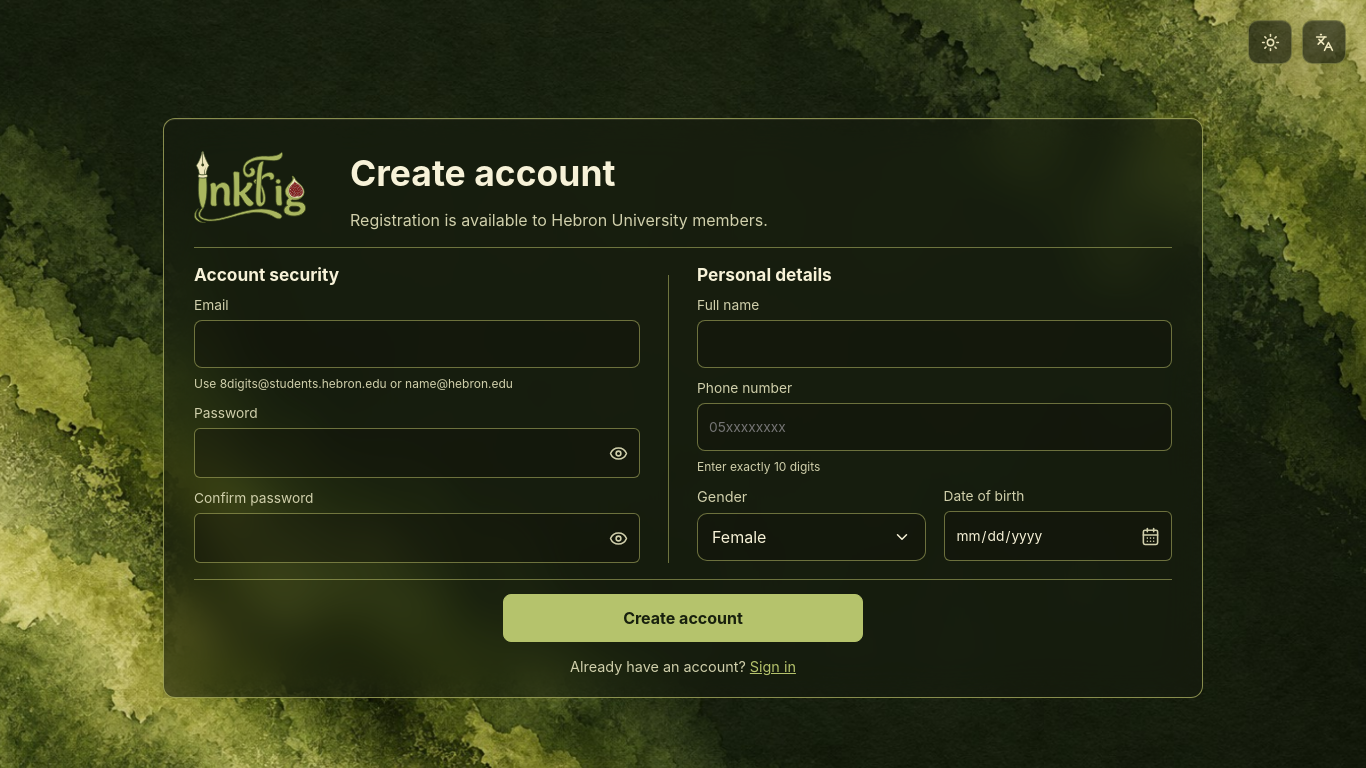
Scenario: preserves signup validation before sending a request: The passwords do not match.
Type "12345678@students.hebron.edu" into the field labelled "Email Use 8digits@students.hebron.edu or name@hebron.edu" at (417, 344), box [194,320,640,368]
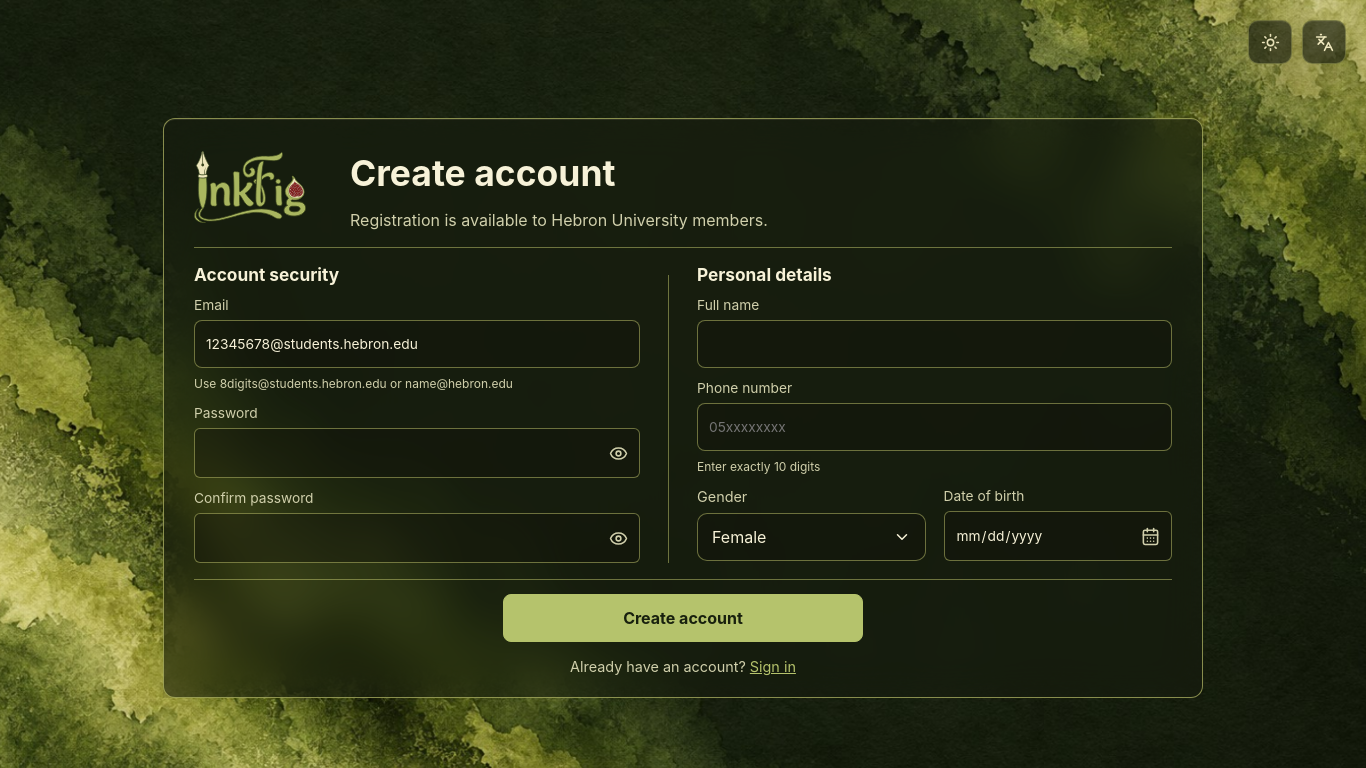
Type "0591234567" into the field labelled "Phone number Enter exactly 10 digits" at (934, 427), box [697,403,1172,451]
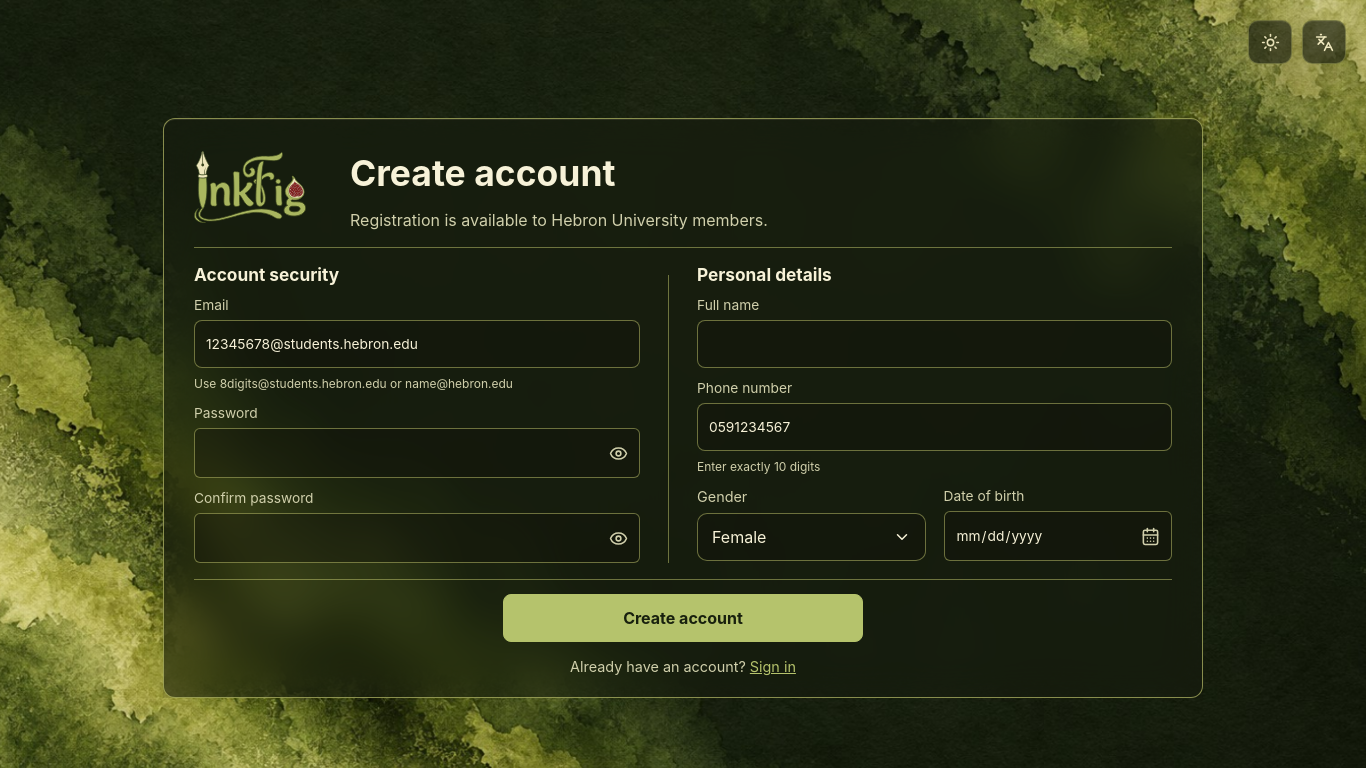
Type "SecurePass123" into the password field labelled "Password" at (396, 453), box [195,429,597,477]
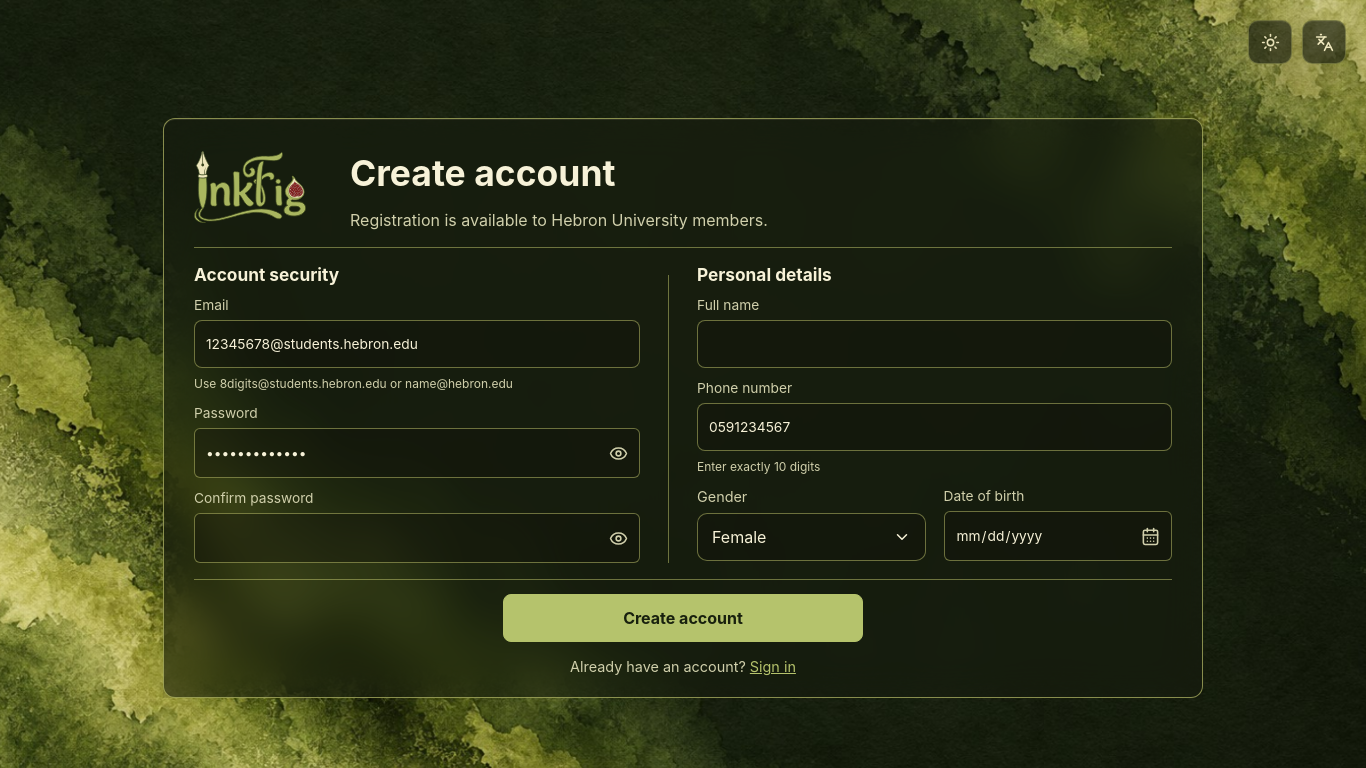
Type "DifferentPass123" into the password field labelled "Confirm password" at (396, 538), box [195,514,597,562]
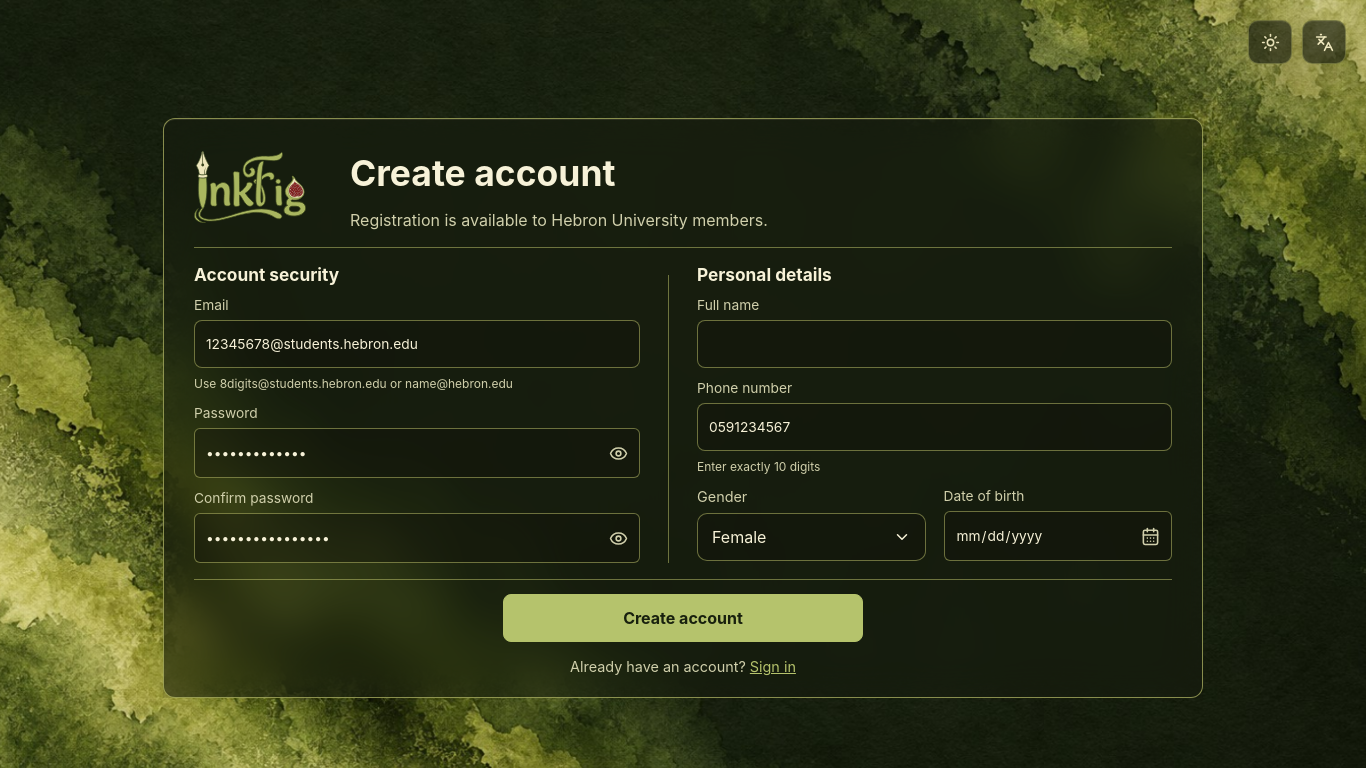
Submit the form, box [194,264,1172,642]
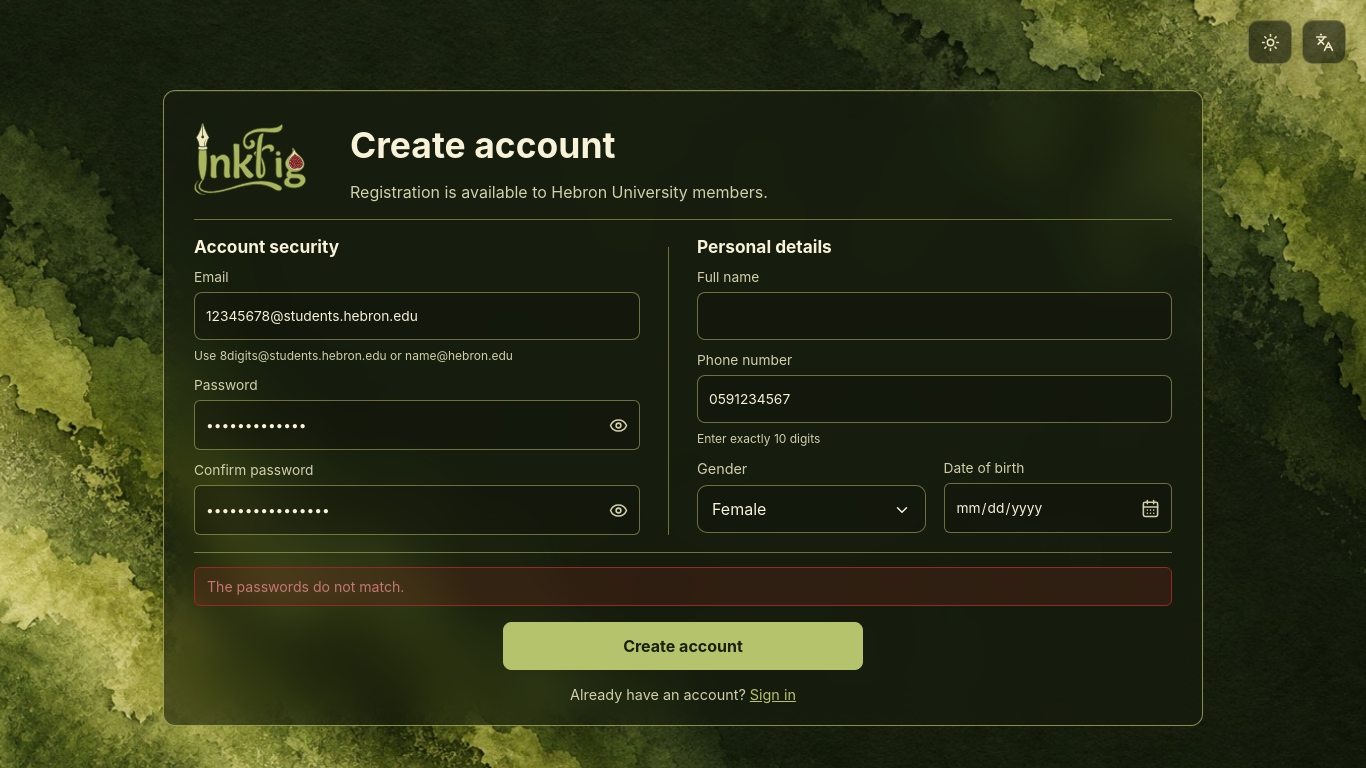
Expected: the message reads "The passwords do not match.", [207,578,404,595]
